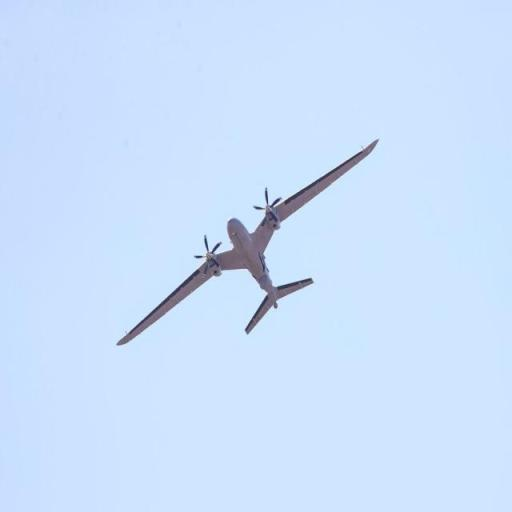uav: (115, 136, 382, 352)
